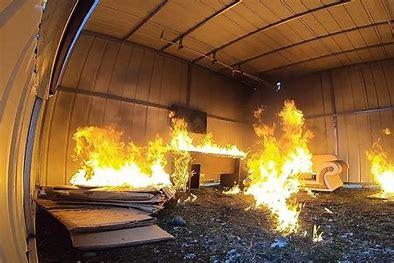smoke: (245, 95, 324, 242), (71, 124, 191, 192), (159, 116, 250, 156), (362, 137, 394, 199), (223, 177, 251, 198)
